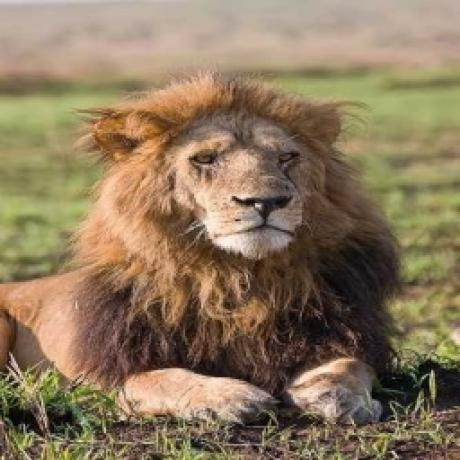Lion: (0, 75, 410, 429)
